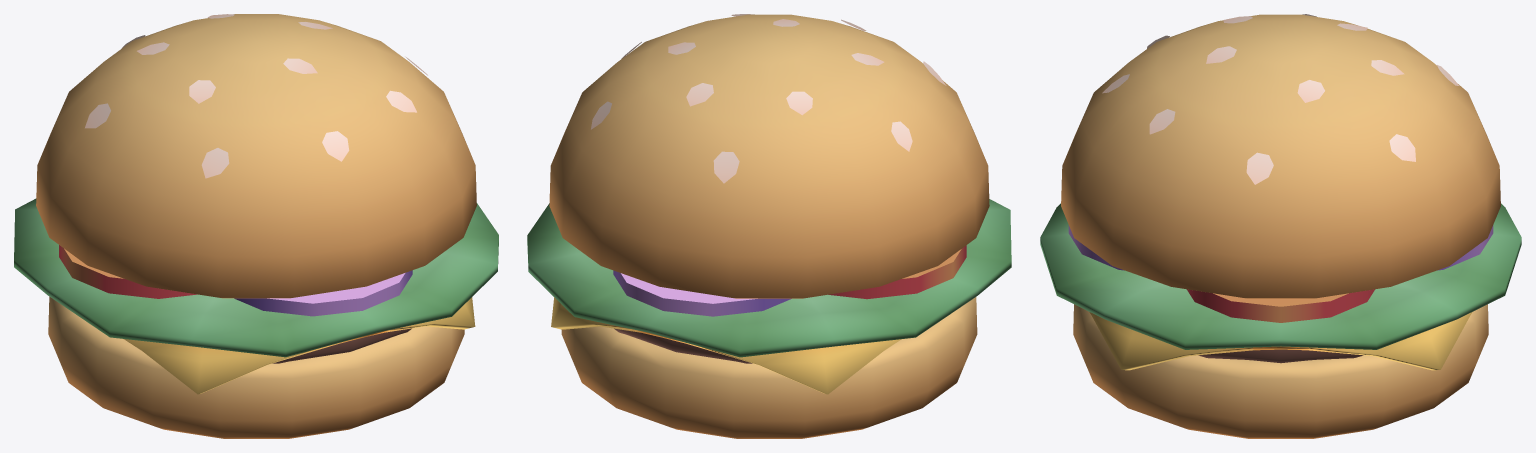
File: SM_Burger.fbx
3 views of the same model, side by side, from view 1: azimuth 30°, elevation 25°; view 2: azimuth 150°, elevation 25°; view 3: azimuth 270°, elevation 25° (orthographic).
Parts seen in each view (by area): view 1: SM_Burger; view 2: SM_Burger; view 3: SM_Burger.
Boxes of the visible parts, x1,y1,x2,y2 form: SM_Burger: [14, 14, 498, 438]; SM_Burger: [527, 14, 1011, 438]; SM_Burger: [1040, 14, 1521, 438].
Bounding box in the file's own units: 81.17 × 59.28 × 81.17.
